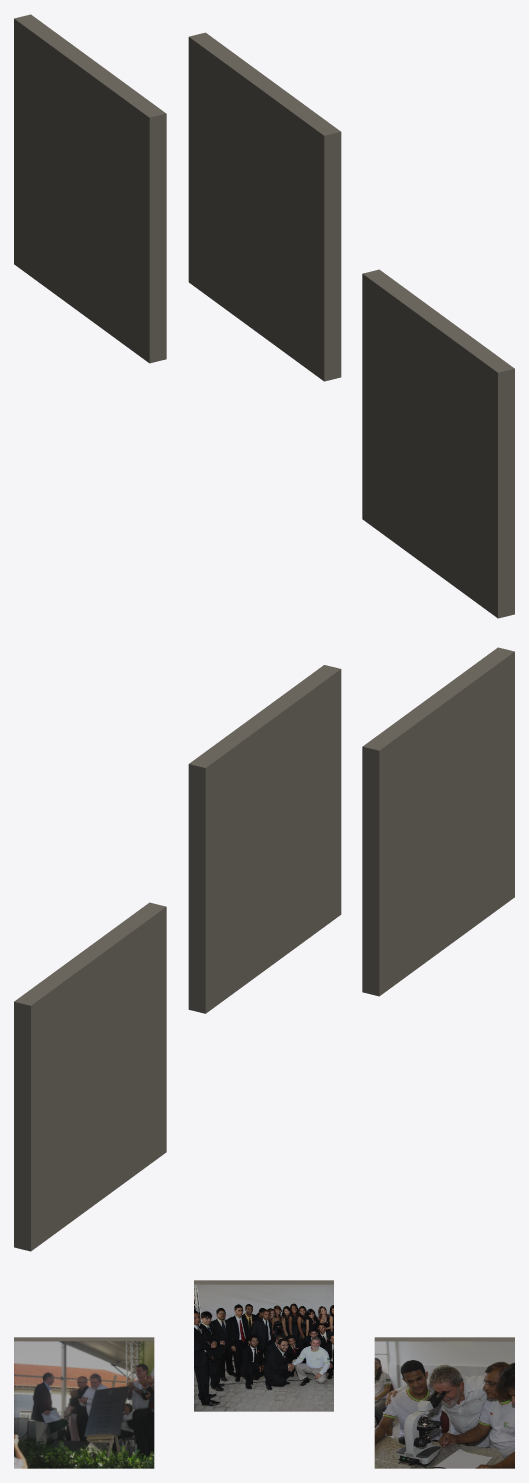
File: memoriacao_q1.glb
The picture shows the model from 3 angles, top to bottom: view 1: azimuth 30°, elevation 25°; view 2: azimuth 150°, elevation 25°; view 3: azimuth 270°, elevation 25°; orthographic projection. The views are drawn at different scales.
Parts seen in each view (by area): view 1: Cube.001, Cube, Cube.002; view 2: Cube.001, Cube, Cube.002; view 3: Cube, Cube.002, Cube.001.
Boxes of the visible parts, left/top/right/bottom form: Cube.001: left=188, top=32, right=341, bottom=381; Cube: left=362, top=269, right=514, bottom=618; Cube.002: left=14, top=14, right=166, bottom=363; Cube.001: left=188, top=665, right=341, bottom=1013; Cube: left=362, top=647, right=514, bottom=996; Cube.002: left=14, top=902, right=166, bottom=1251; Cube: left=14, top=1337, right=154, bottom=1468; Cube.002: left=374, top=1337, right=514, bottom=1468; Cube.001: left=194, top=1280, right=333, bottom=1411.
Bounding box in the file's own units: 0.0217 × 0.434 × 1.07.
6 materials, 3 textured.
